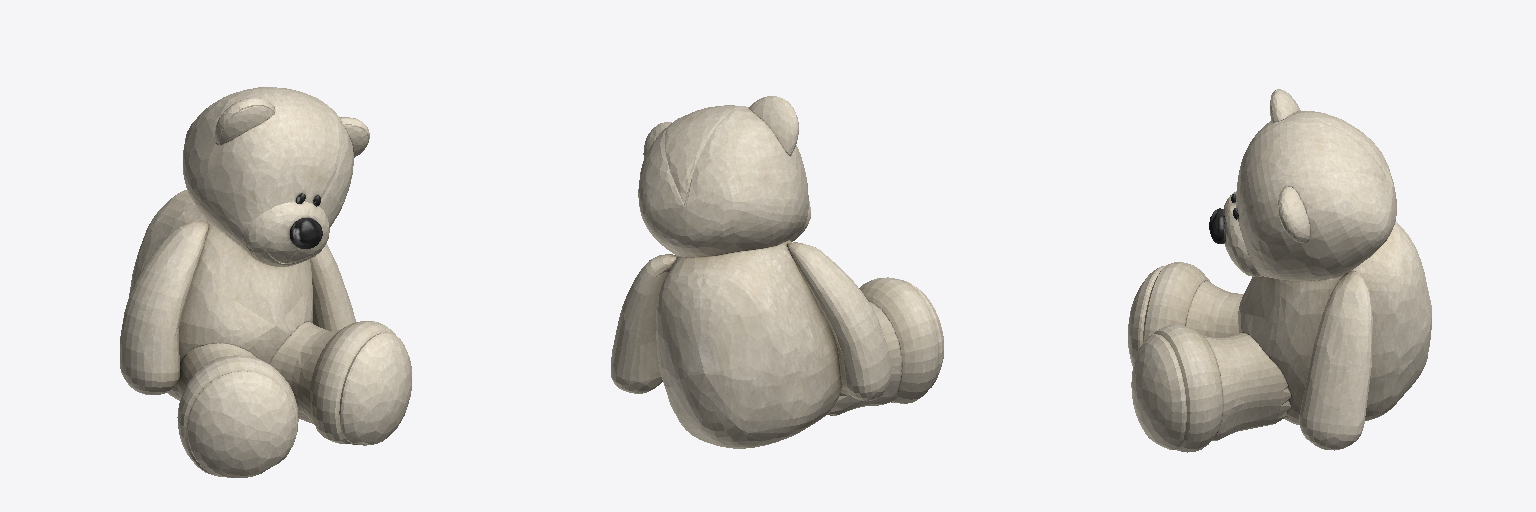
The picture shows the model from 3 angles: view 1: azimuth 30°, elevation 25°; view 2: azimuth 150°, elevation 25°; view 3: azimuth 270°, elevation 25°; orthographic projection.
Parts seen in each view (by area): view 1: solid_002, solid_001; view 2: solid_002; view 3: solid_002, solid_001.
Boxes of the visible parts, x1=… form: solid_002: x1=120, y1=87, x2=411, y2=477; solid_001: x1=290, y1=193, x2=322, y2=248; solid_002: x1=611, y1=96, x2=943, y2=448; solid_002: x1=1128, y1=89, x2=1431, y2=452; solid_001: x1=1209, y1=194, x2=1238, y2=243.
Bounding box in the file's own units: 1.09 × 1.34 × 1.15.
Materials: 1 (1 with a texture image).